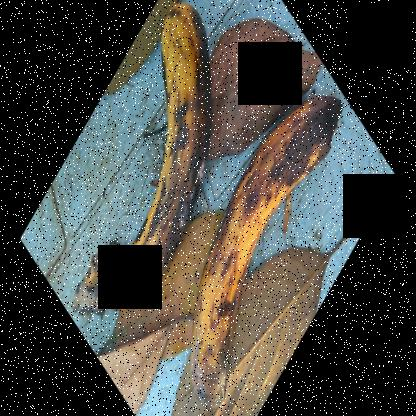rotten: (192, 85, 351, 413), (100, 1, 214, 318)
